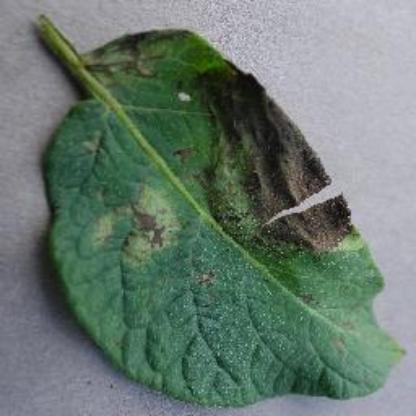Late-Blight: (23, 11, 410, 410)
